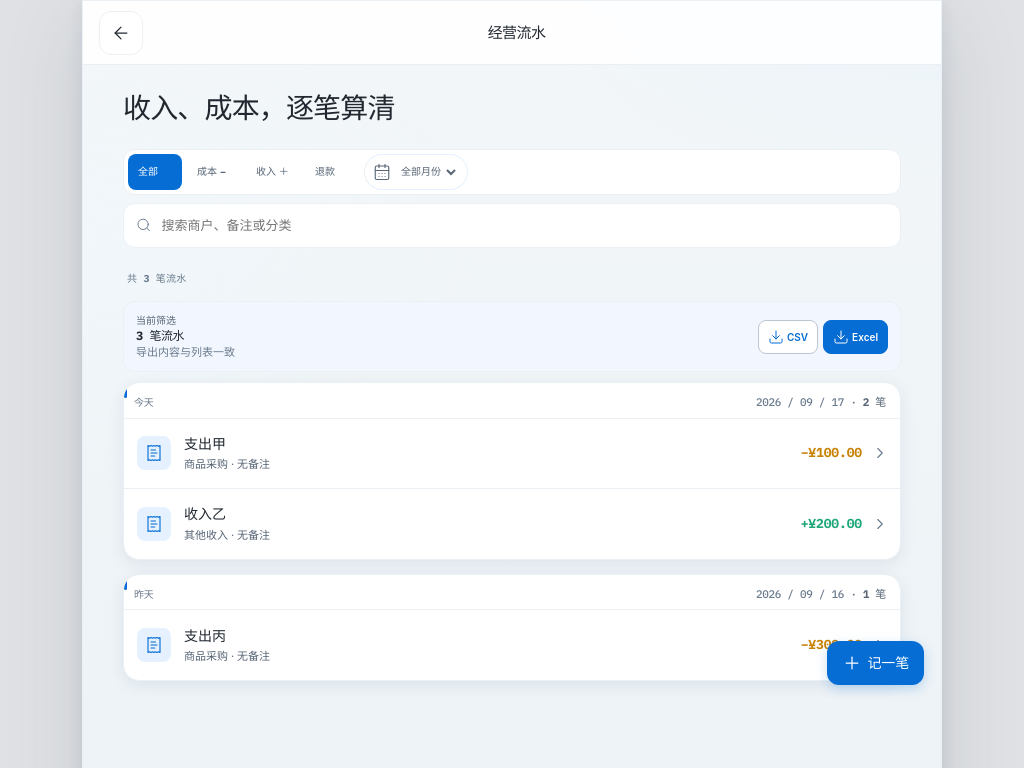
Scenario: C2 经营流水扫描效率：日期分组与金额列 › 类型筛选后分组只保留对应类型，笔数小计正确（既有筛选回归）
Click the button "成本 −". click: (214, 172)
box: [187, 154, 241, 190]
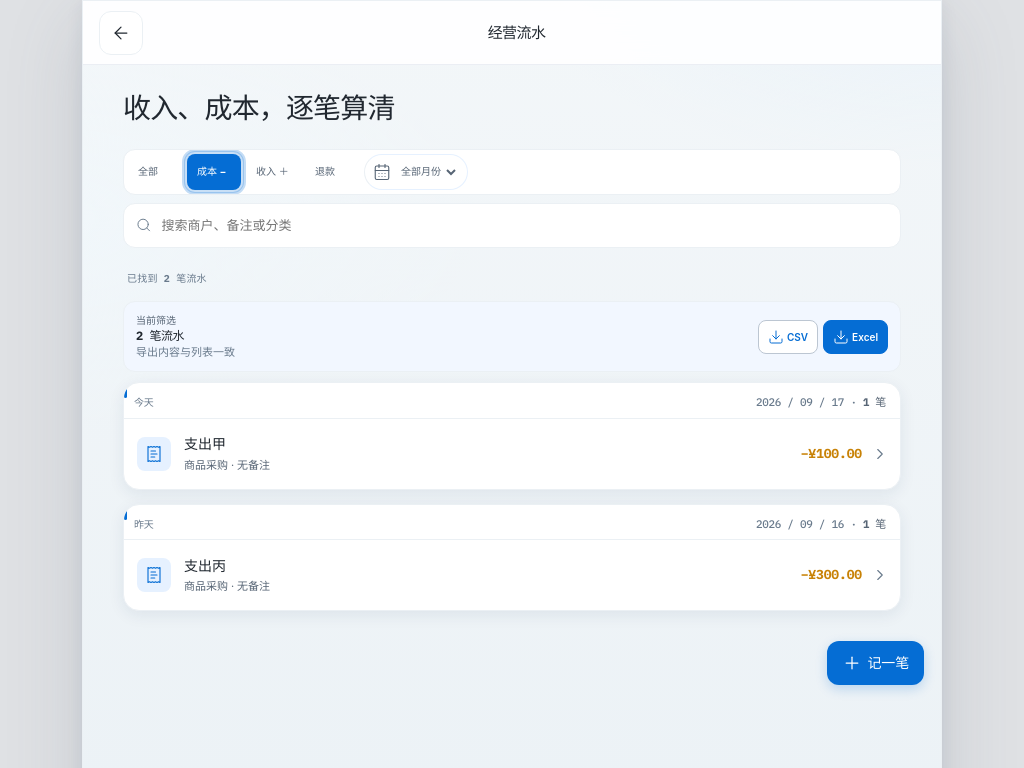
Expected: the text with test id "record-group-count" next to "2026 / 09 / 16" reads "1 笔", [863, 517, 886, 531]
Now the text with test id "record-group-count" next to "2026 / 09 / 17" reads "1 笔", box [863, 396, 886, 410]
Now the button "收入乙" is gone
